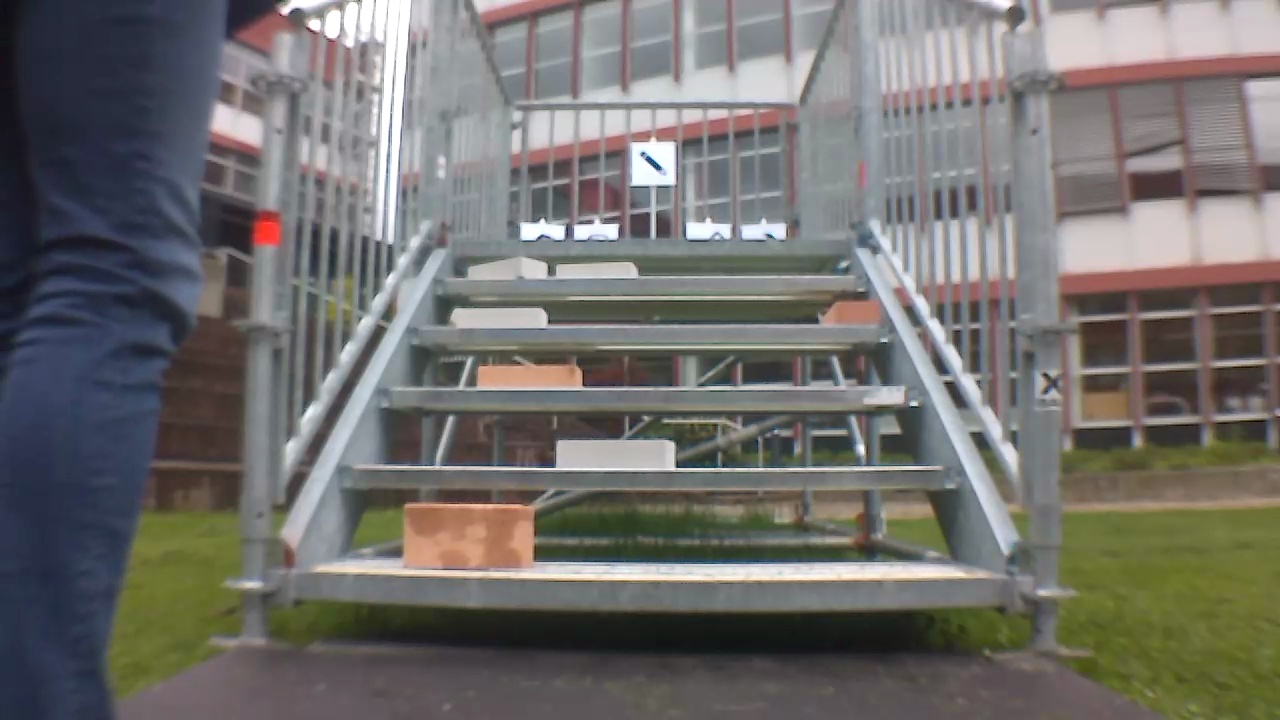brick: (399, 507, 536, 568), (553, 436, 680, 473), (477, 363, 585, 386), (450, 306, 546, 331), (468, 257, 546, 279), (556, 261, 639, 276), (828, 300, 881, 323)
edge: (297, 569, 1010, 603), (340, 462, 961, 491), (374, 386, 927, 411), (406, 323, 894, 346), (426, 273, 873, 294), (448, 239, 850, 256)
pencil: (636, 146, 667, 180)
stairs: (237, 0, 1048, 656)
steps: (285, 236, 1018, 611)
